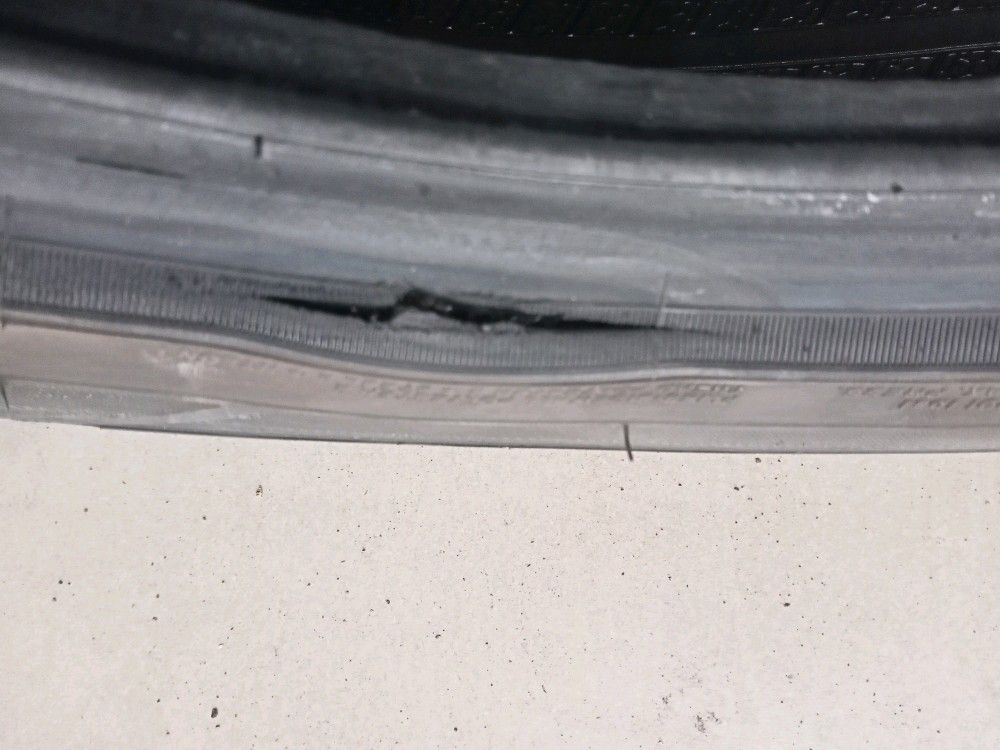cut: (255, 281, 724, 340)
